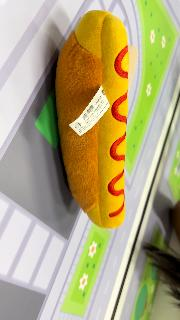hotdog: (54, 10, 130, 230)
